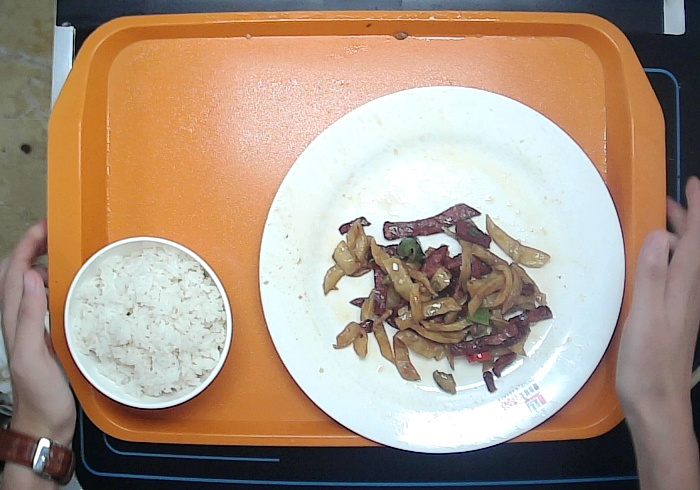ZNLD-Da_Yuan_Pan: (255, 82, 628, 457)
ZNLD-Fan_Wan: (62, 233, 234, 412)
